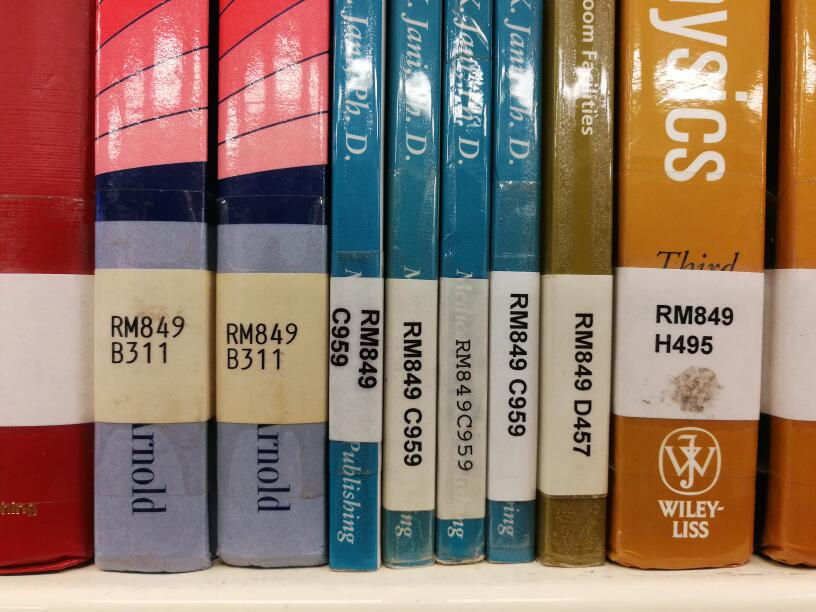booklabel: (652, 298, 736, 357), (566, 307, 598, 460), (326, 305, 381, 389), (397, 317, 427, 469), (108, 311, 188, 367), (221, 317, 300, 373), (503, 288, 530, 438), (450, 335, 477, 473)
